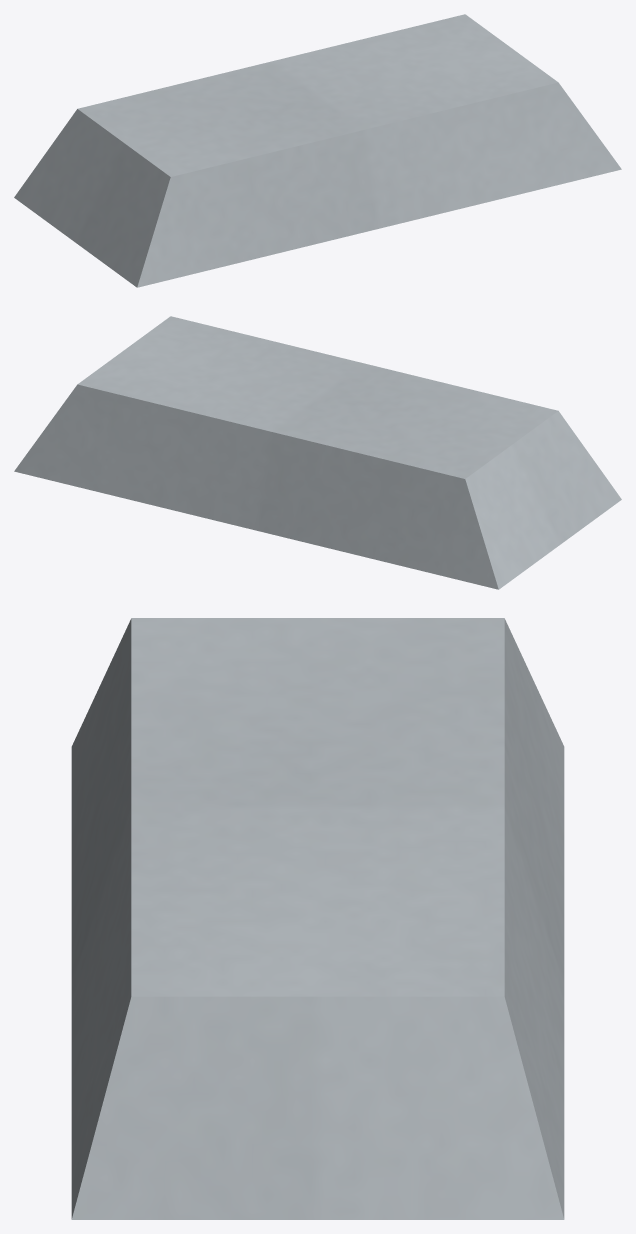
Rendered from ingot_tin.glb.
3 views of the same model, one above another, from view 1: azimuth 30°, elevation 25°; view 2: azimuth 150°, elevation 25°; view 3: azimuth 270°, elevation 25° (orthographic). The views are drawn at different scales.
Visible parts, largest first — view 1: cast tin ingot; view 2: cast tin ingot; view 3: cast tin ingot.
Boxes of the visible parts, box(x1,y1,x2,y2) form: cast tin ingot: box(14, 14, 621, 287); cast tin ingot: box(14, 316, 621, 589); cast tin ingot: box(71, 618, 564, 1219).
Bounding box in the file's own units: 0.15 × 0.026 × 0.066.
Materials: 1 (1 with a texture image).
